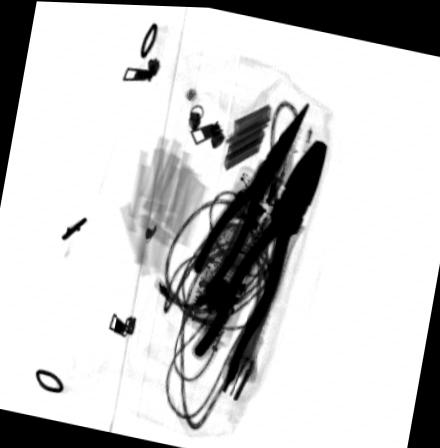Pliers: (191, 134, 328, 384), (193, 98, 310, 296)
